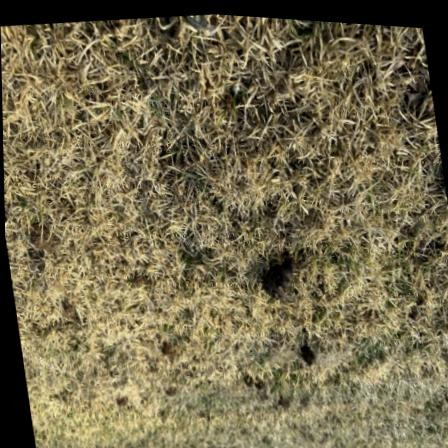dog-poop: (253, 252, 301, 303)
